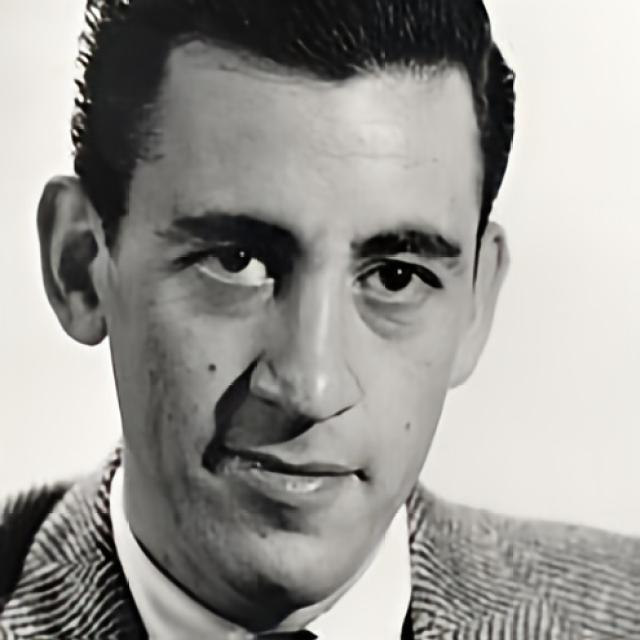content: (108, 36, 482, 601)
